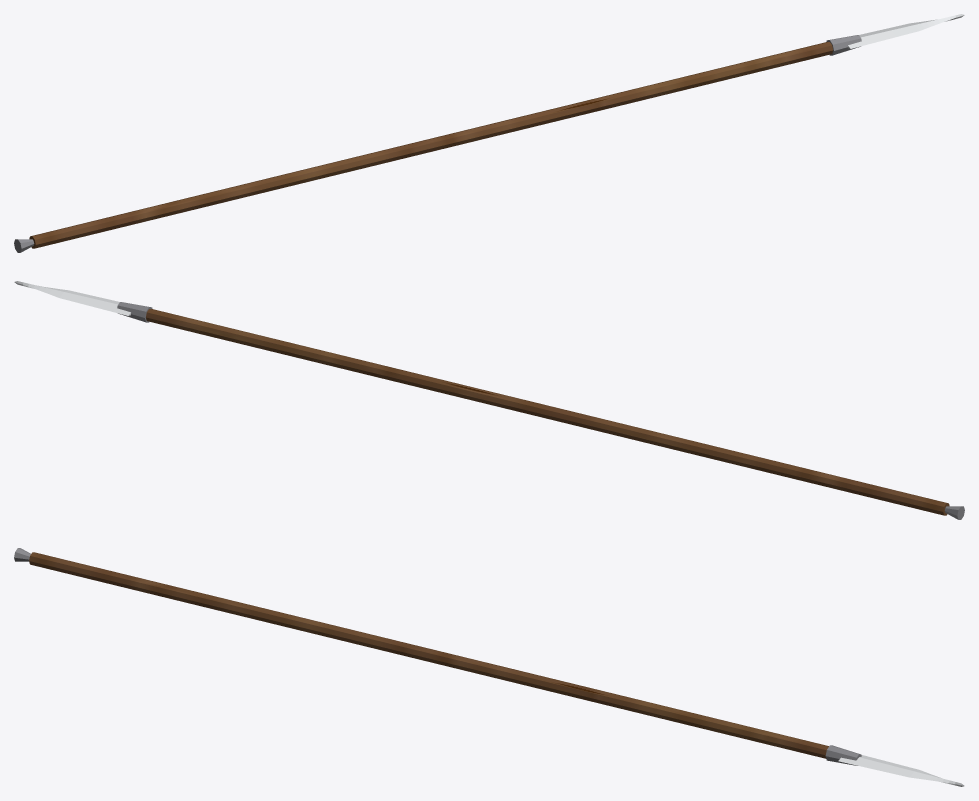
The model's file is spear.glb.
3 views of the same model, one above another, from view 1: azimuth 30°, elevation 25°; view 2: azimuth 150°, elevation 25°; view 3: azimuth 330°, elevation 25° (orthographic).
Parts seen in each view (by area): view 1: Spear; view 2: Spear; view 3: Spear.
Boxes of the visible parts, x1,y1,x2,y2 form: Spear: (14,14,964,252); Spear: (14,281,964,519); Spear: (14,548,964,786).
Bounding box in the file's own units: 2.59 × 0.0401 × 0.0601.
3 materials, 1 textured.
